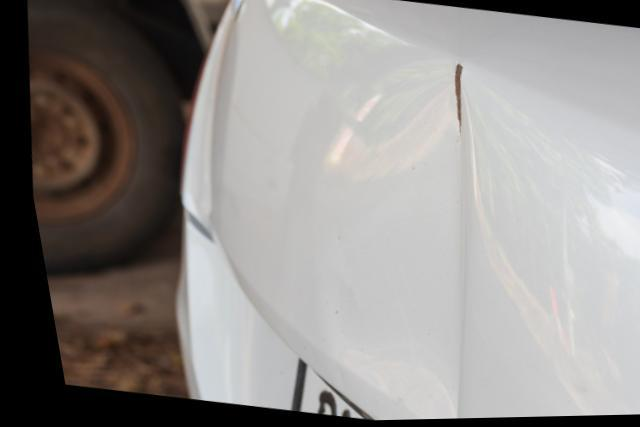dent: (326, 66, 490, 421)
